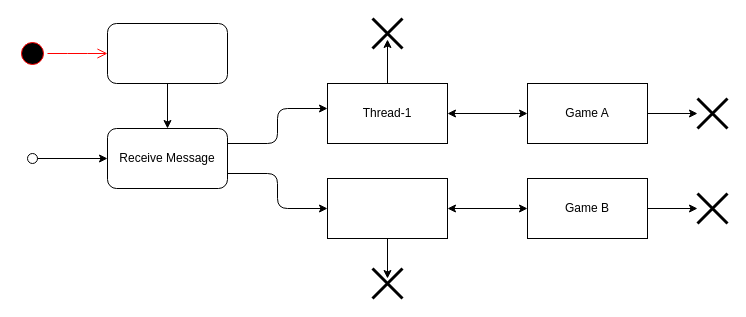
The diagram is 746 pixels wide and 317 high, and some of its shapes have lost their labels. The box of each missing label's shape, as (x1, y1, x2, y2) in pixels:
External Client: (106, 22, 228, 84)
Thread-2: (326, 178, 448, 238)
